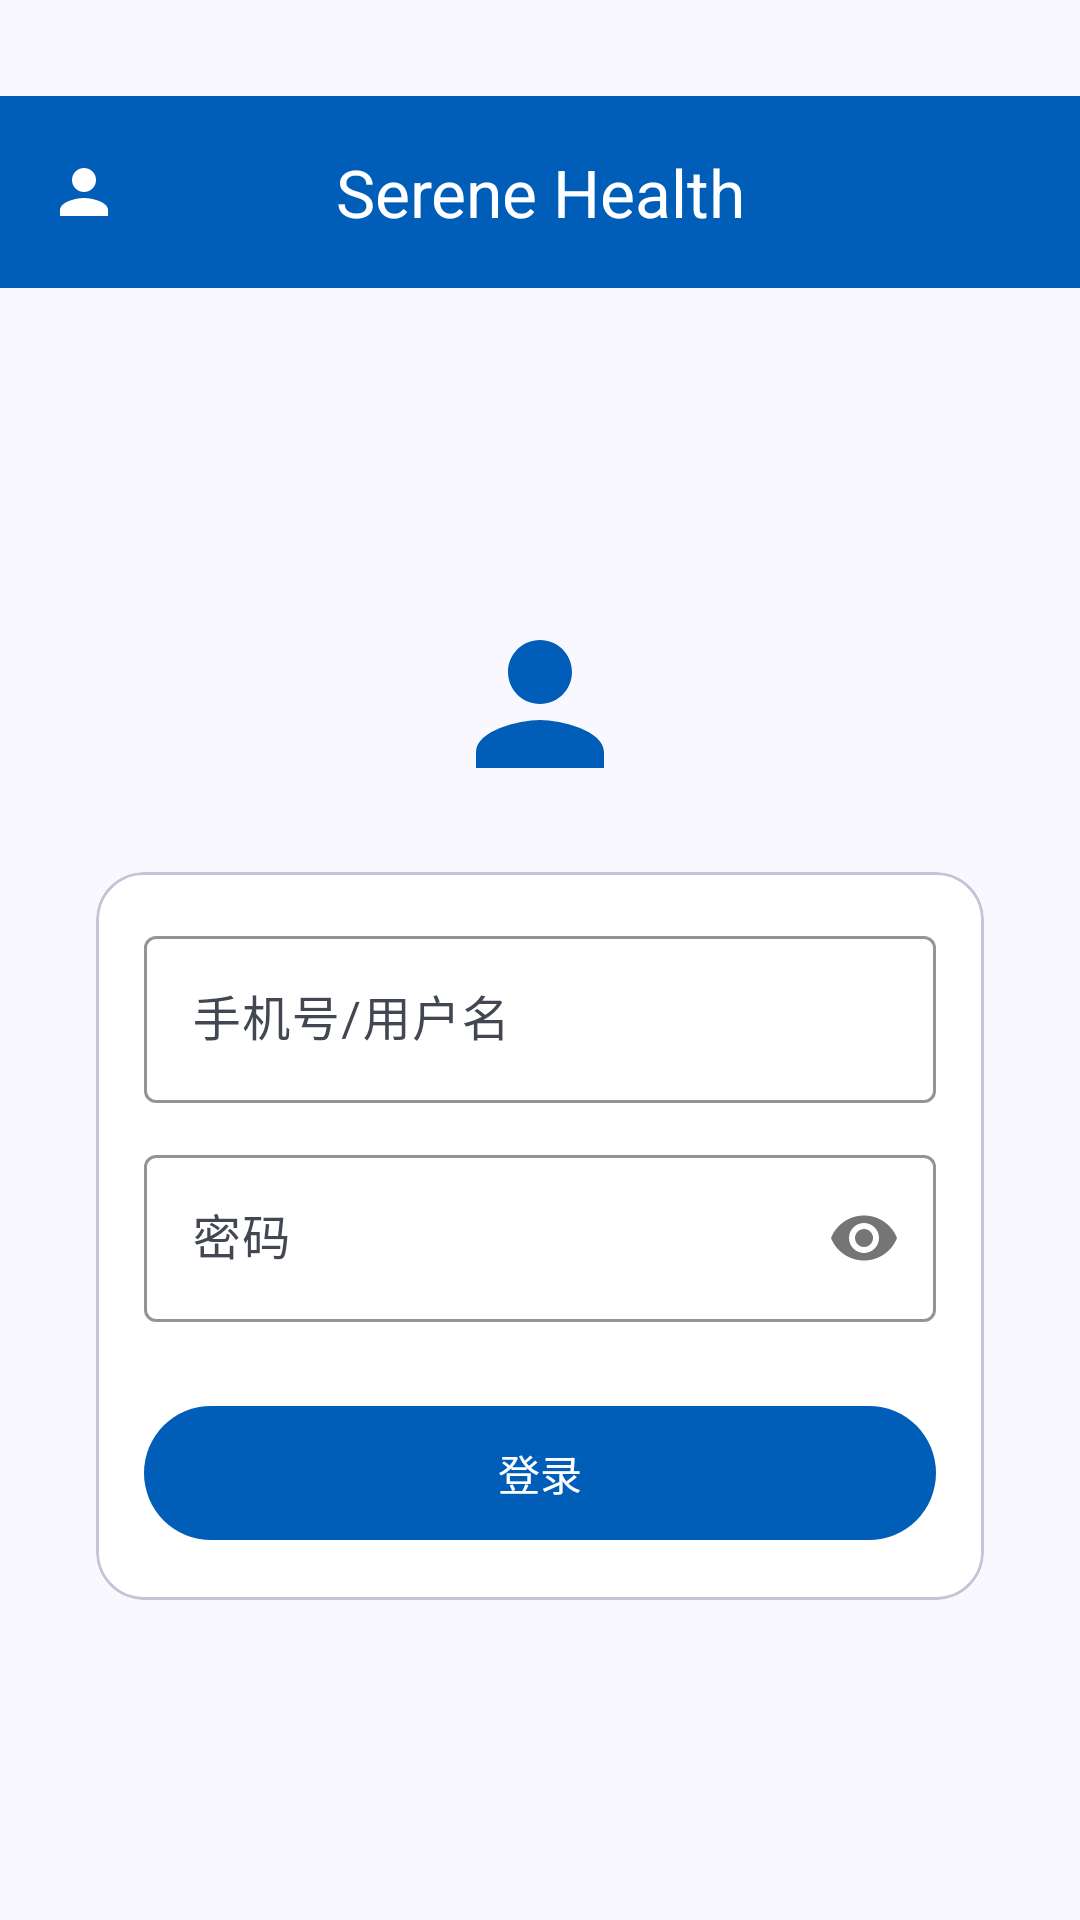

Where icons sit on this 1080*1920 app screen, as (x1, y1, x2, y2):
home profile: (60, 168, 108, 216), (476, 640, 604, 768)
